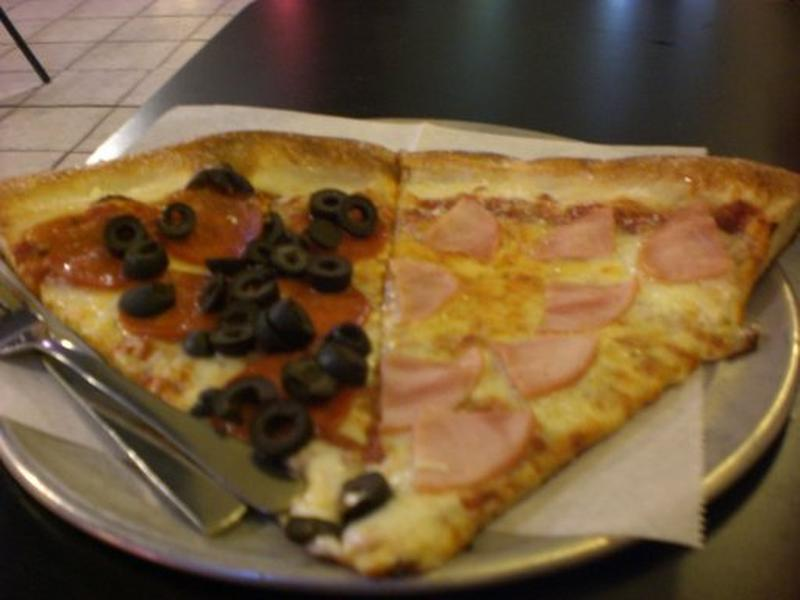pizza: (18, 98, 795, 585)
